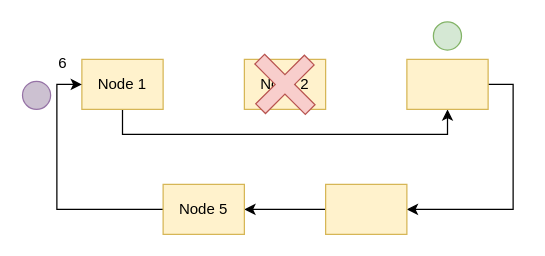
This 545x256 diagram has some shape labels left out. The shapes that lost their labels are listed below. From the top down, each one's centre as x and y in pixels, then its label:
At point 447,83: "Node 3".
At point 365,208: "Node 4".
